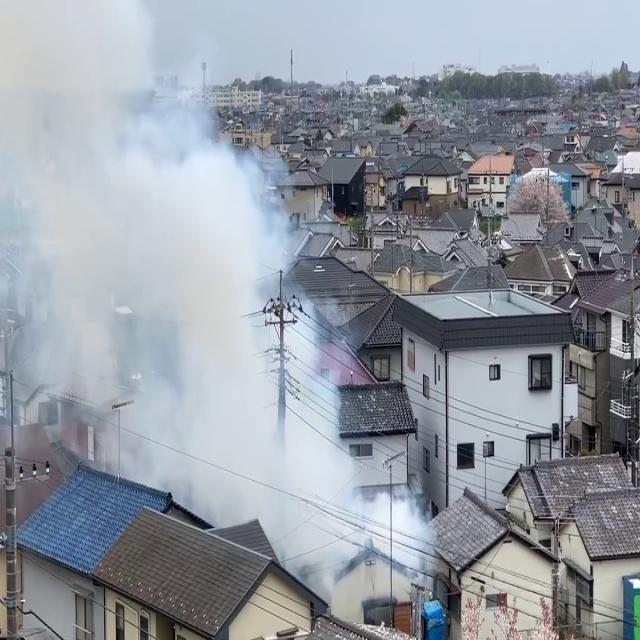Smoke: (0, 11, 440, 604)
